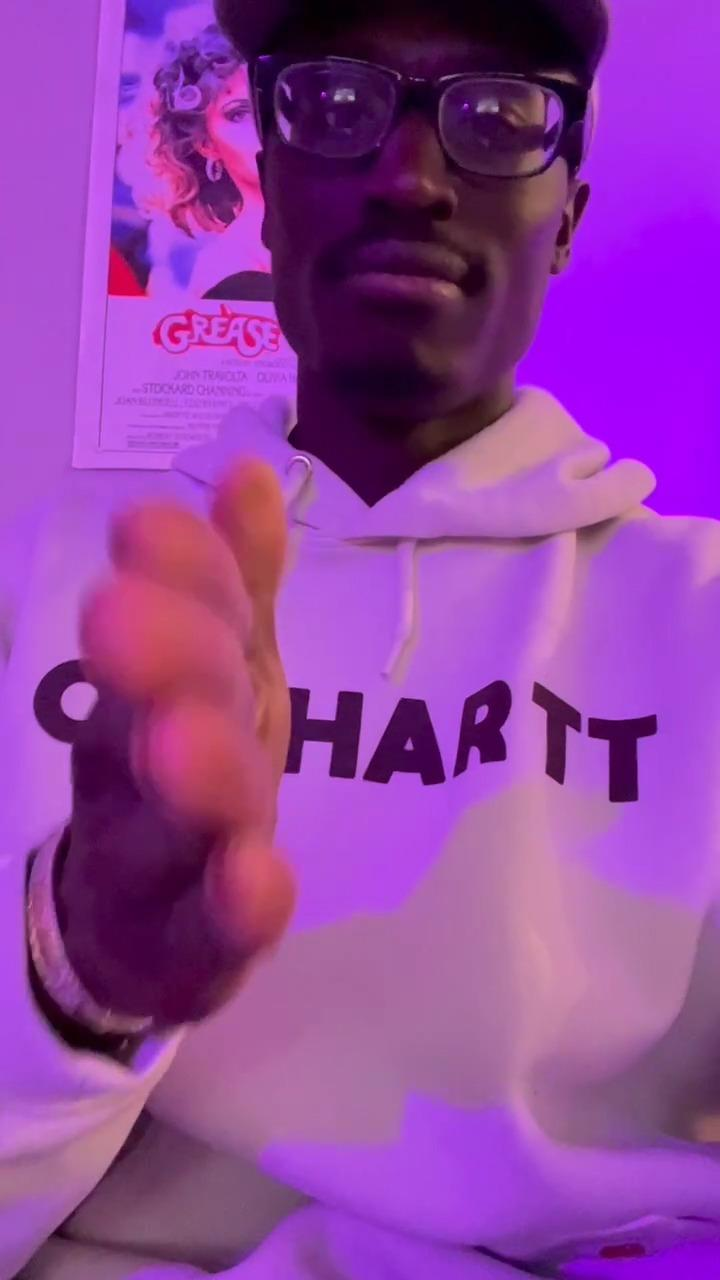Paper: (62, 458, 297, 1034)
